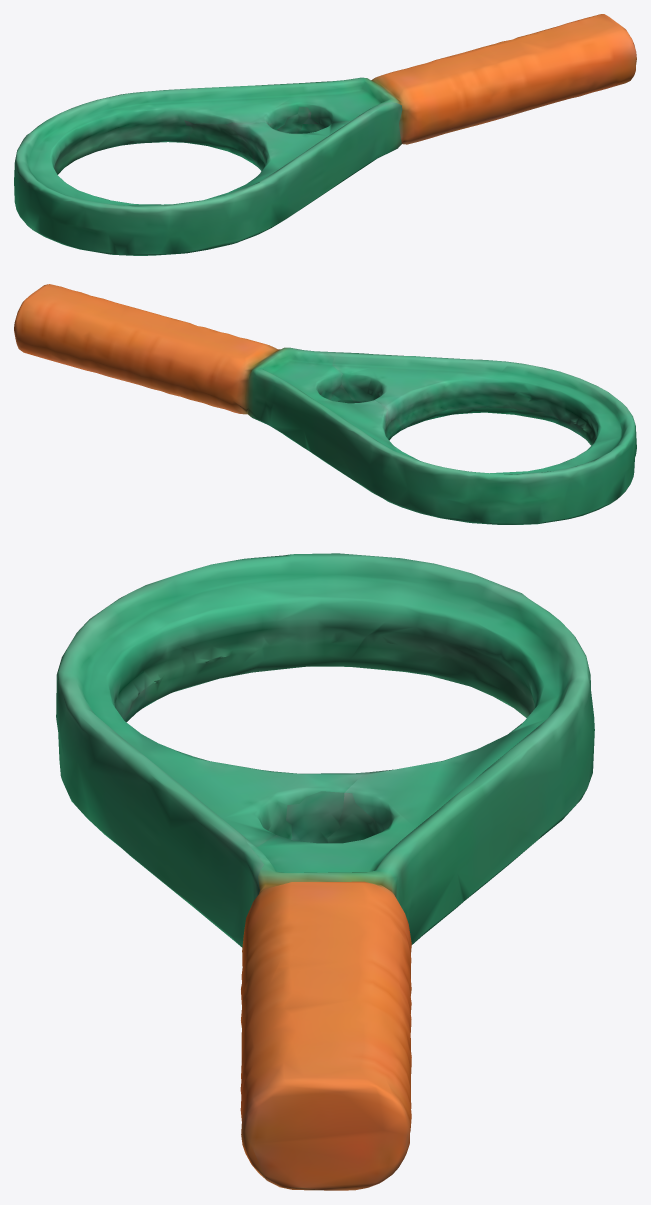
File: Magnifying_Glassassrt-high.glb
The picture shows the model from 3 angles, top to bottom: view 1: azimuth 30°, elevation 25°; view 2: azimuth 150°, elevation 25°; view 3: azimuth 270°, elevation 25°; orthographic projection. The views are drawn at different scales.
Parts seen in each view (by area): view 1: Magnifying_Glassassrt; view 2: Magnifying_Glassassrt; view 3: Magnifying_Glassassrt.
Part boxes in pixels (x1,y1,x2,y2): Magnifying_Glassassrt: (14, 14, 636, 255); Magnifying_Glassassrt: (14, 284, 636, 524); Magnifying_Glassassrt: (56, 553, 594, 1190).
Size of the model in its own units: 0.1518 by 0.017 by 0.0604.
Materials: 1 (1 with a texture image).
